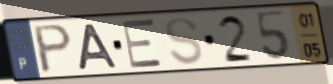2: (215, 13, 255, 63)
5: (252, 8, 294, 63)
A: (76, 22, 120, 72)
E: (120, 17, 166, 71)
P: (32, 22, 75, 76)
S: (163, 15, 206, 68)
